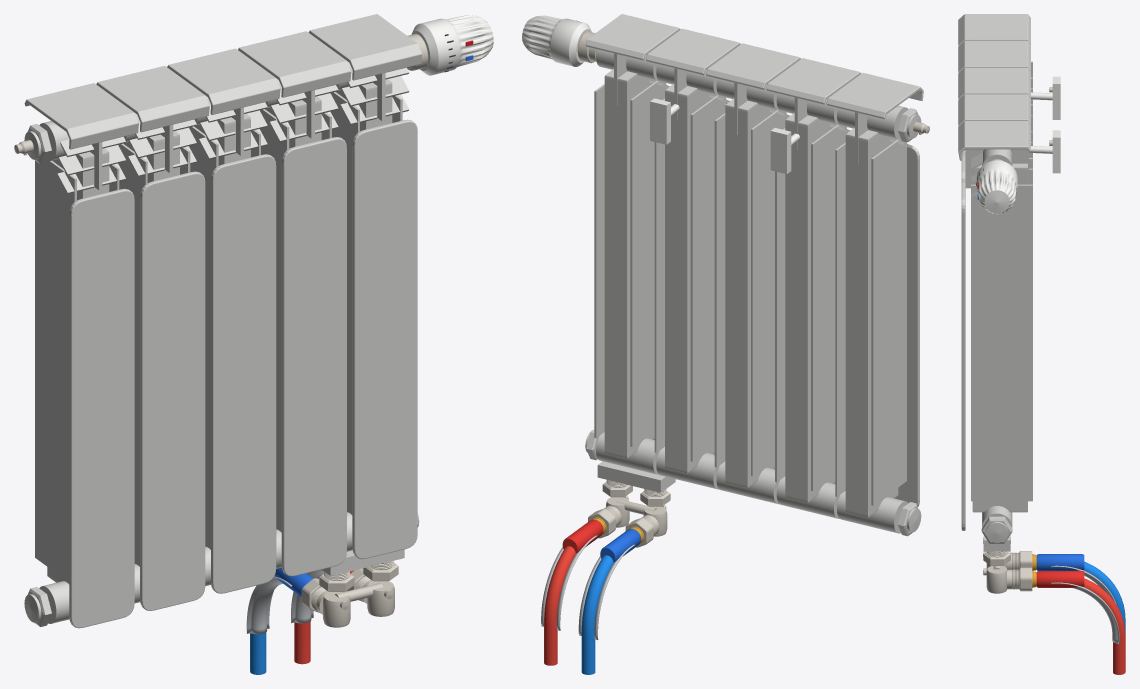
File: rad_node_space_angled.glb
3 renders of one model, left to right at view 1: azimuth 30°, elevation 25°; view 2: azimuth 150°, elevation 25°; view 3: azimuth 270°, elevation 25°, orthographic. The views are drawn at different scales.
Visible parts, largest first — view 1: панель секции, панель секции.003, панель секции.004, панель секции.001, панель секции.002, ребро, козырёк, козырёк.003, козырёк.004, козырёк.001, козырёк.002, термоголовка (+14 smaller); view 2: ребро, тело секции, тело секции.004, тело секции.002, тело секции.003, тело секции.001, ребро.006, ребро.002, ребро.008, ребро.004, панель секции, ребро.005 (+29 smaller); view 3: ребро.009, козырёк.004, козырёк.002, козырёк.001, козырёк.003, козырёк, термоголовка, панель секции.004, труба 16, тело секции.004, втулка, втулка.001 (+13 smaller).
Boxes of the visible parts, x1,y1,x2,y2 form: панель секции: (69,188,134,628); панель секции.003: (281,137,346,576); панель секции.004: (352,119,417,559); панель секции.001: (140,171,205,610); панель секции.002: (211,154,276,593); ребро: (35,160,76,582); козырёк: (24,83,138,149); козырёк.003: (238,31,351,97); козырёк.004: (308,14,421,80); козырёк.001: (96,66,209,132); козырёк.002: (167,48,280,114); термоголовка: (411,15,493,75); ребро: (871,139,906,505); тело секции: (845,127,898,517); тело секции.004: (604,69,656,458); тело секции.002: (725,98,776,487); тело секции.003: (665,83,716,473); тело секции.001: (785,113,836,502); ребро.006: (690,95,726,461); ребро.002: (811,125,846,490); ребро.008: (630,81,666,446); ребро.004: (751,110,786,476); панель секции: (894,146,919,506); ребро.005: (714,113,725,467); ребро.009: (971,184,1032,501); козырёк.004: (958,121,1030,160); козырёк.002: (958,67,1030,99); козырёк.001: (958,40,1030,72); козырёк.003: (958,94,1030,126); козырёк: (958,14,1030,45); термоголовка: (976,160,1017,214); панель секции.004: (961,181,965,530); труба 16: (1083,578,1125,674); тело секции.004: (972,163,1027,512); втулка: (1036,571,1084,587); втулка.001: (1036,554,1084,570).
Size of the model in its own units: 0.533 by 0.741 by 0.2109.
